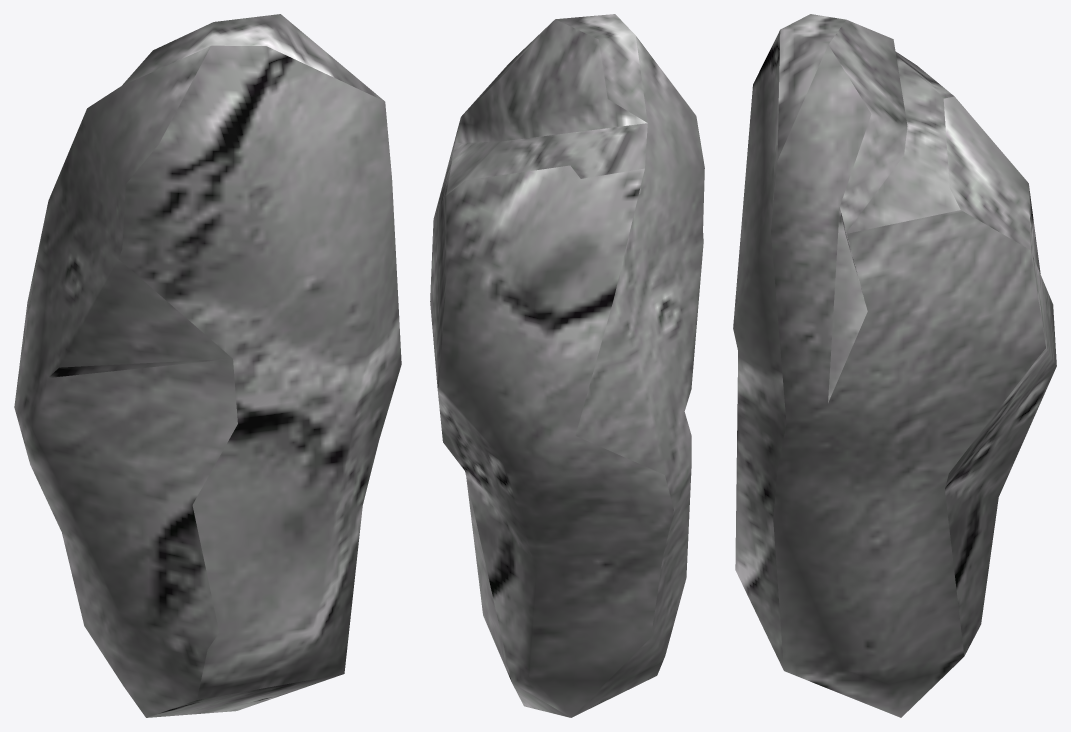
File: AsteroidPillarLarge2.fbx
3 renders of one model, left to right at view 1: azimuth 30°, elevation 25°; view 2: azimuth 150°, elevation 25°; view 3: azimuth 270°, elevation 25°, orthographic. The views are drawn at different scales.
Parts seen in each view (by area): view 1: Mesh; view 2: Mesh; view 3: Mesh.
Part boxes in pixels (x1,y1,x2,y2): Mesh: [14, 14, 401, 717]; Mesh: [430, 14, 704, 717]; Mesh: [733, 14, 1056, 717].
Size of the model in its own units: 45.49 by 101 by 43.97.
Materials: 1 (1 with a texture image).
